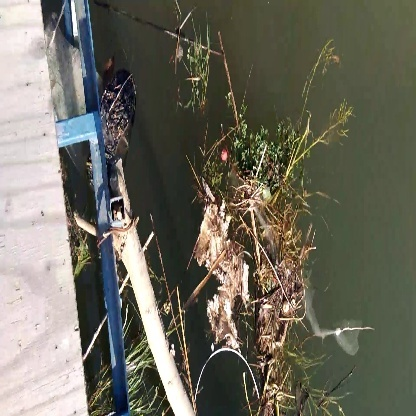grass: (239, 120, 308, 183)
